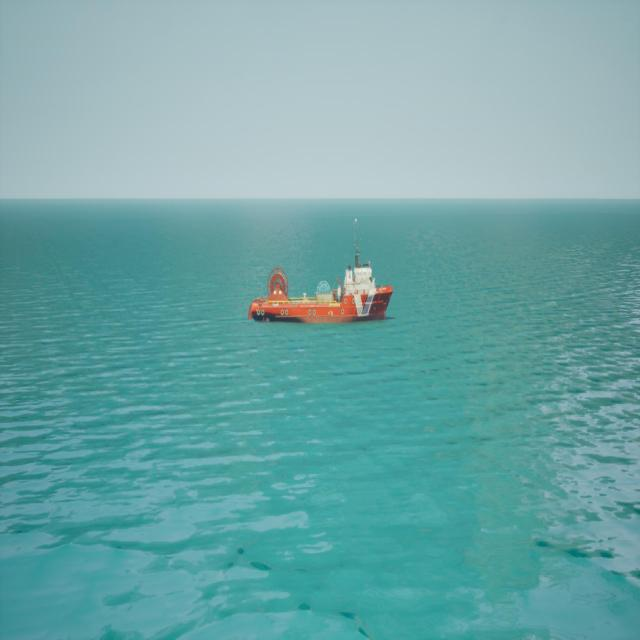tug boat: (249, 220, 397, 325)
